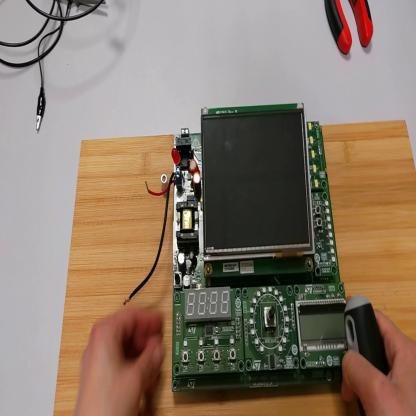hand: (76, 303, 168, 415), (341, 294, 416, 415)
low voltage board: (123, 102, 347, 393)
oscilloscope probe tip: (73, 2, 108, 10)
pliers: (326, 2, 376, 56)
screwdriver-: (347, 298, 390, 416)
working area: (55, 117, 416, 416)
